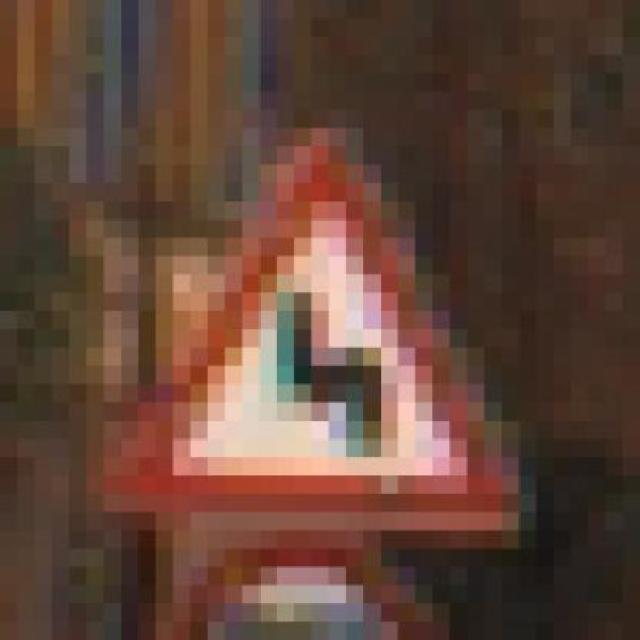Left Zig Zag Traffic: (104, 128, 536, 530)
